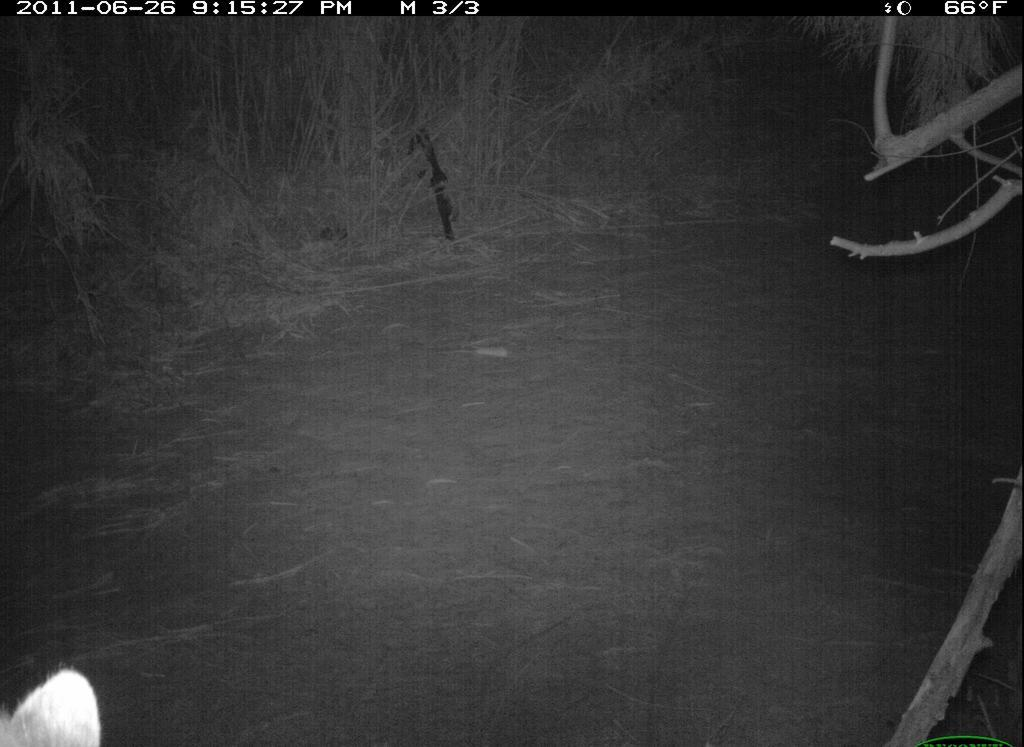raccoon: (2, 637, 126, 747)
